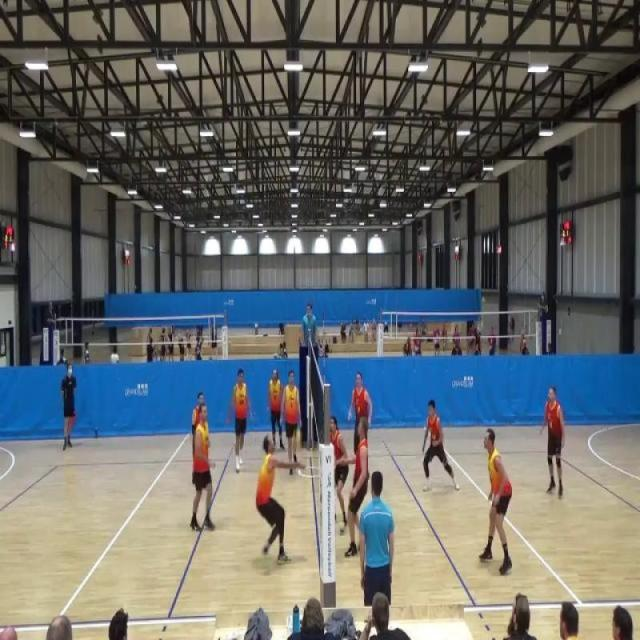volleyball: (292, 430, 302, 447)
